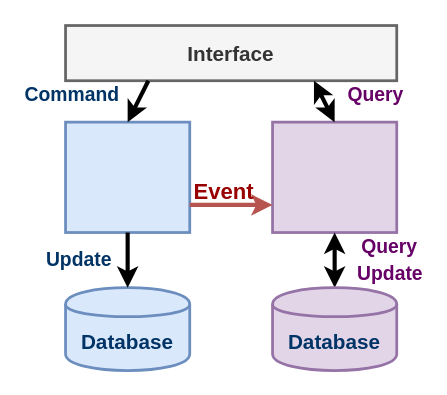
Image size: 447x395. Some labels were removed from this diagram. The shapes that lost their labels are listed below. From the top down, each one's centre as x and y in pixels, then its label:
At [126,176]: "Command Model".
At [333,176]: "Query Model".
